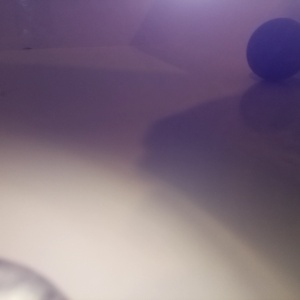dead_ball: (246, 18, 300, 81)
